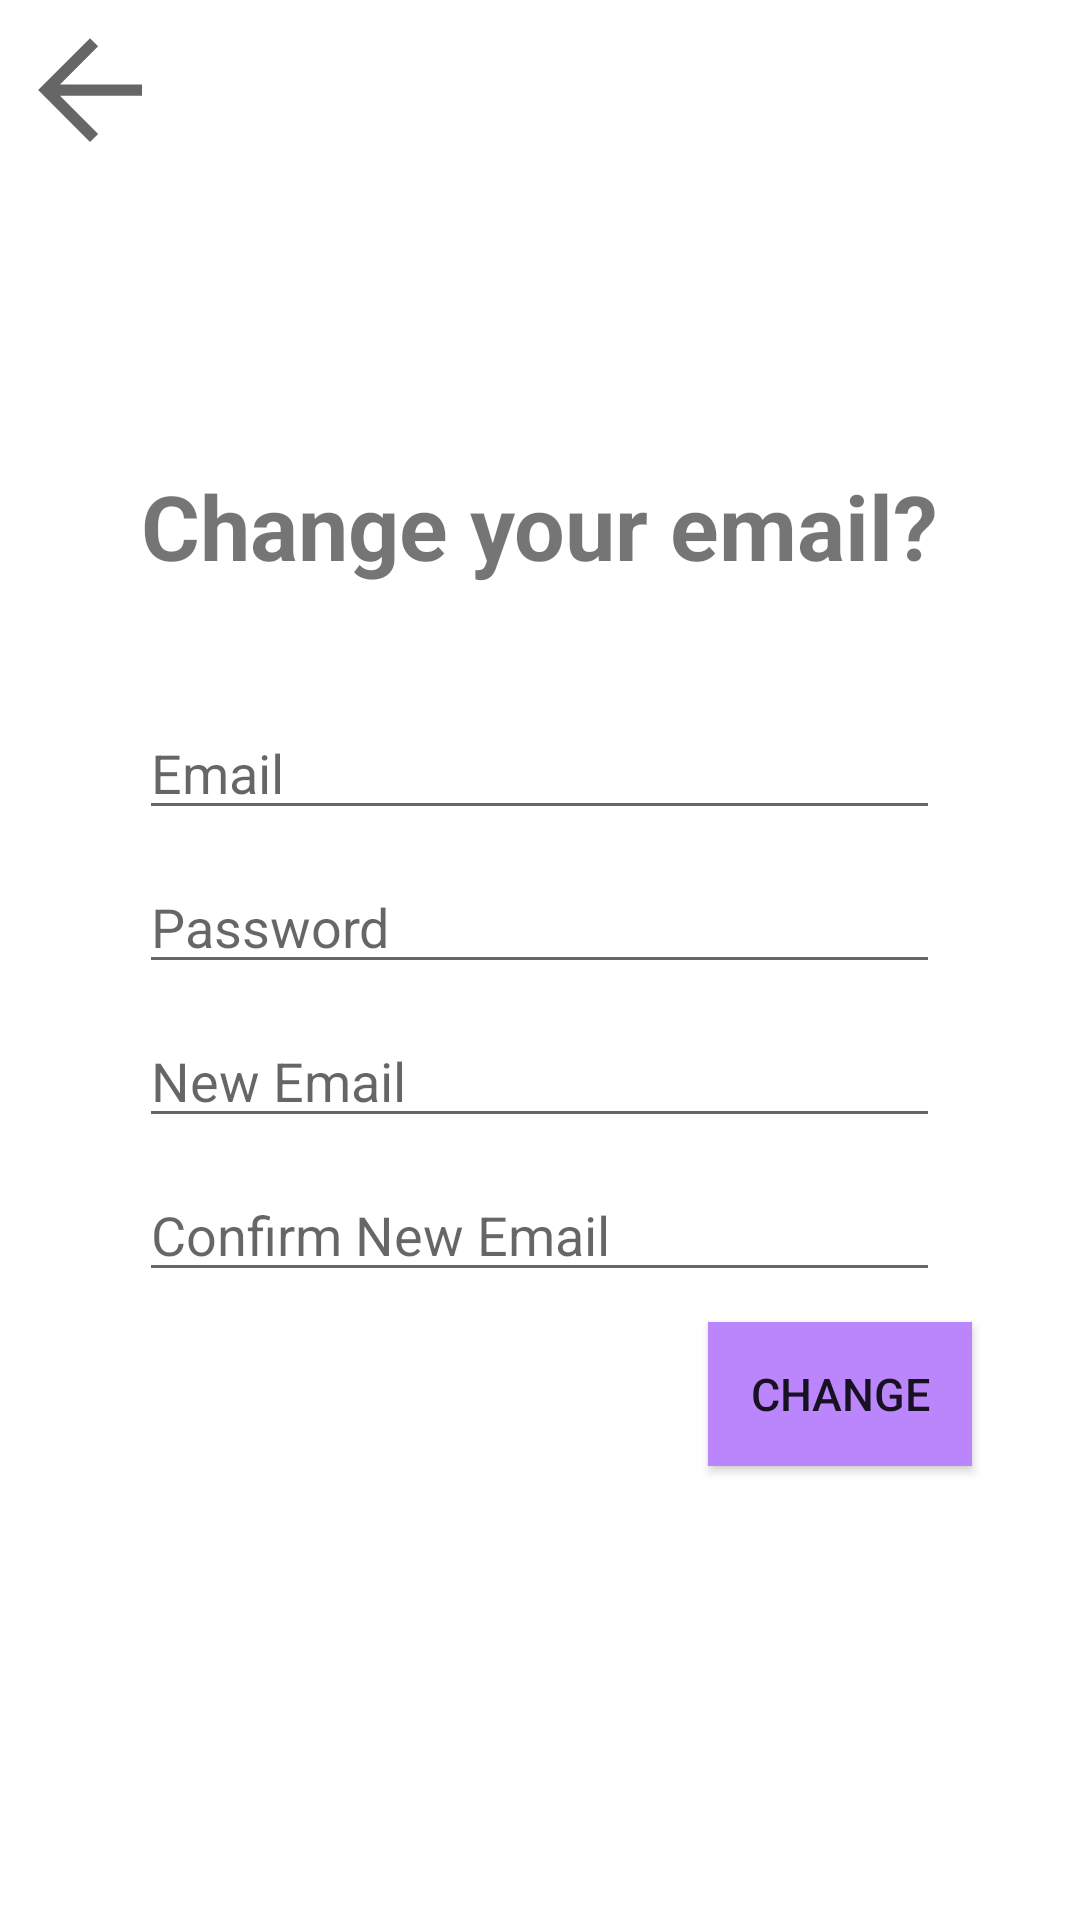

Named icons in this screenshot (1080 × 1920) and their centers, (x,y):
backarrow: (90,90)
